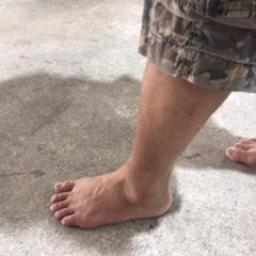Lateral View -Left Foot-: (44, 143, 186, 230)
